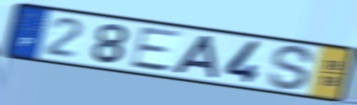2: (43, 16, 88, 60)
4: (222, 38, 264, 86)
8: (92, 23, 129, 65)
A: (170, 33, 222, 81)
E: (127, 26, 185, 74)
S: (266, 43, 317, 93)
